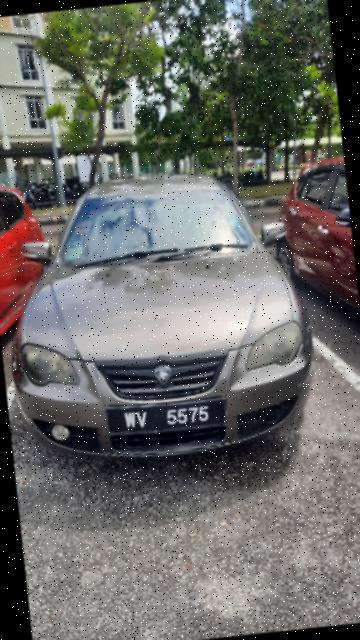License_Plate: (101, 390, 231, 445)
car: (1, 152, 323, 473)
